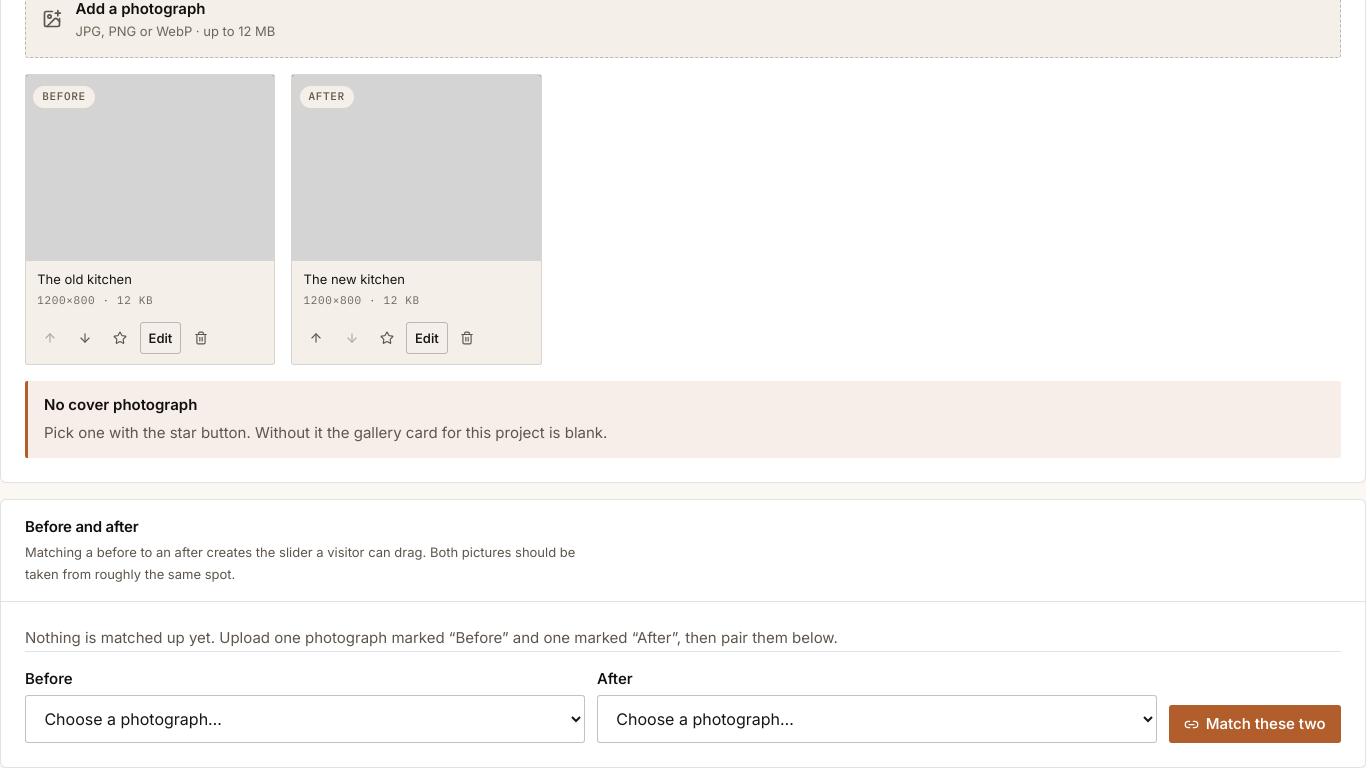
Test case: before and after pairing › refuses to pair when only one side is chosen
(page scrolled)
Select "The old kitchen" in the dropdown labelled "Before" at x=305, y=720, box [25,696,585,744]
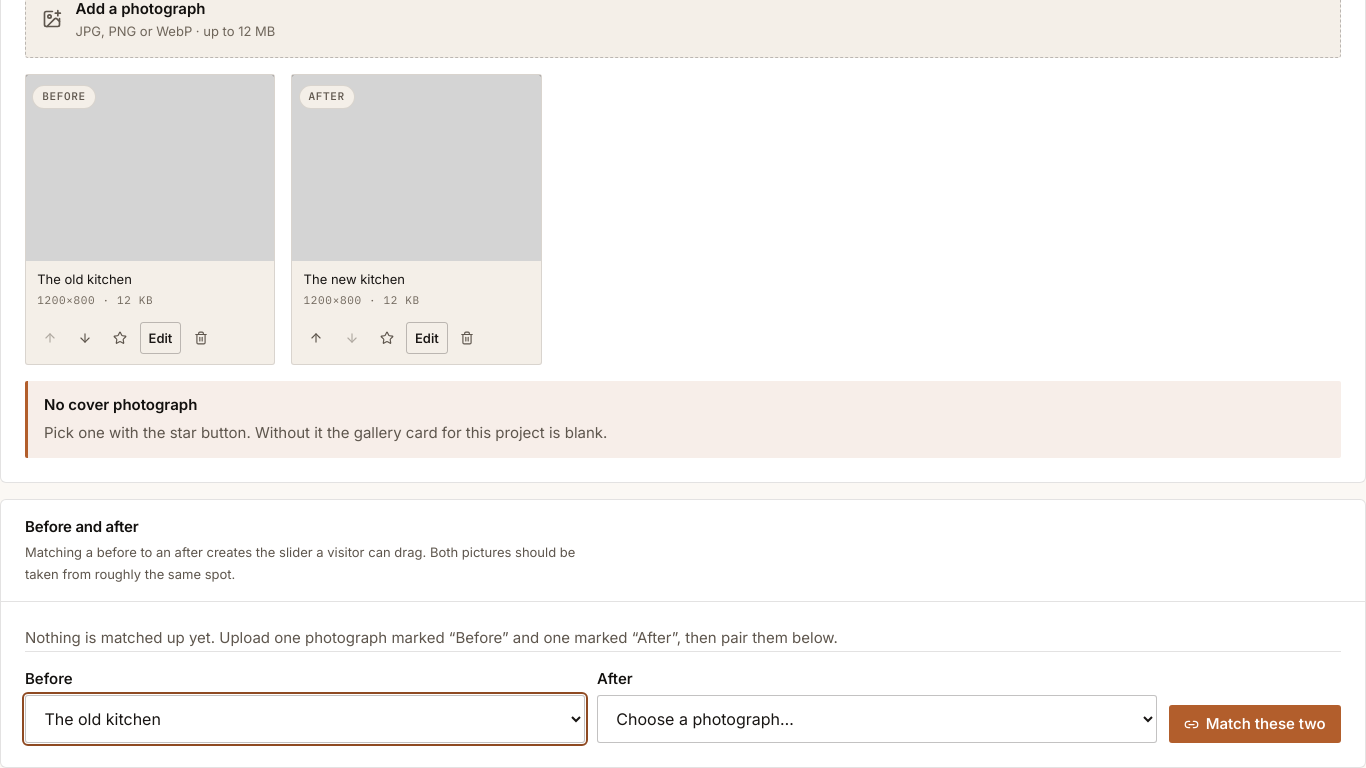
Click the button "Match these two" at x=1255, y=724, box [1169,705,1341,744]
(page scrolled)
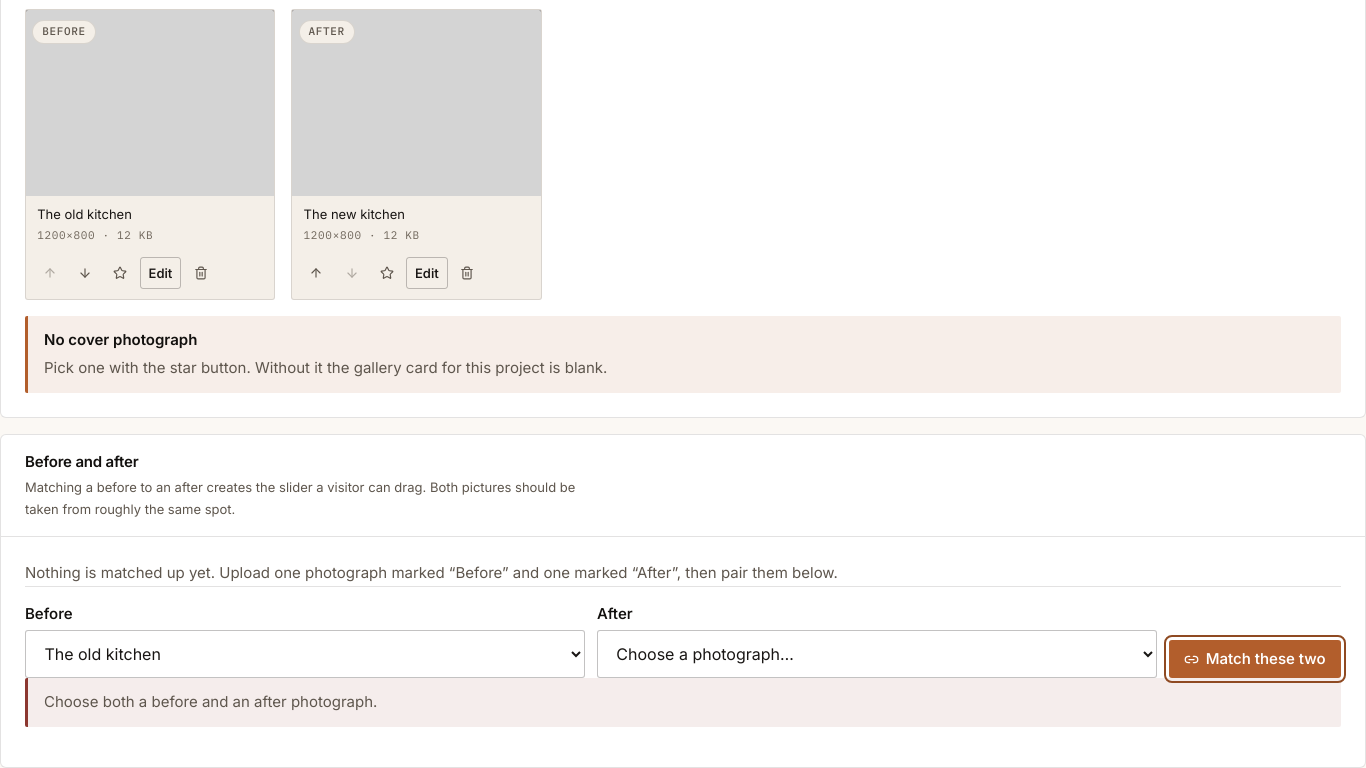
Expected: the text "Choose both a before and an after photograph." is shown, [44,692,377,712]
